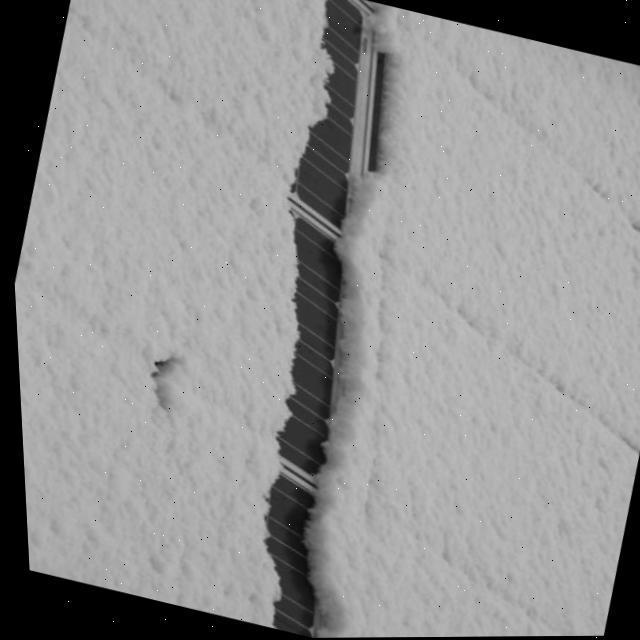Anomaly Solar Panel: (325, 6, 640, 638), (11, 33, 359, 495), (12, 307, 330, 638), (63, 0, 382, 249)
Snow: (11, 0, 338, 629), (331, 27, 640, 453), (316, 257, 640, 637), (362, 8, 640, 262), (338, 506, 611, 638)
